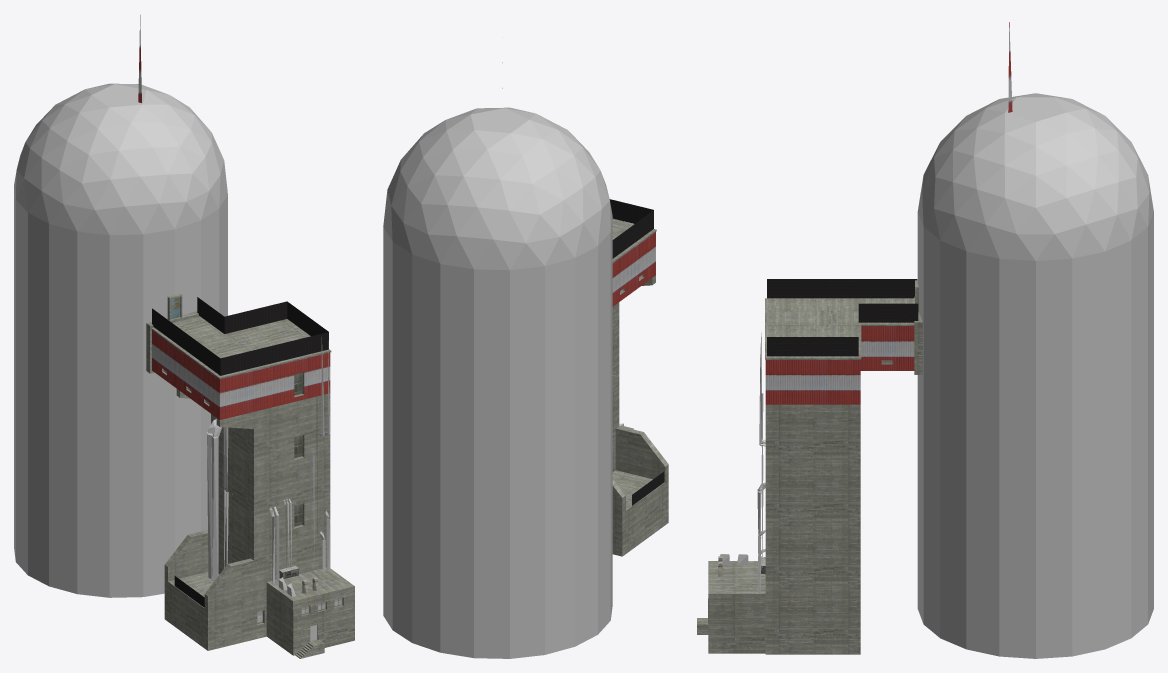
File: Building_8_LOD02.fbx
3 views of the same model, side by side, from view 1: azimuth 30°, elevation 25°; view 2: azimuth 150°, elevation 25°; view 3: azimuth 270°, elevation 25° (orthographic). The views are drawn at different scales.
Visible parts, largest first — view 1: Building_8_LOD02; view 2: Building_8_LOD02; view 3: Building_8_LOD02.
Part boxes in pixels (left/top/right/bottom): Building_8_LOD02: left=14, top=15, right=354, bottom=658; Building_8_LOD02: left=383, top=62, right=668, bottom=658; Building_8_LOD02: left=697, top=22, right=1153, bottom=658.
Size of the model in its own units: 29.42 by 82.35 by 56.93.
